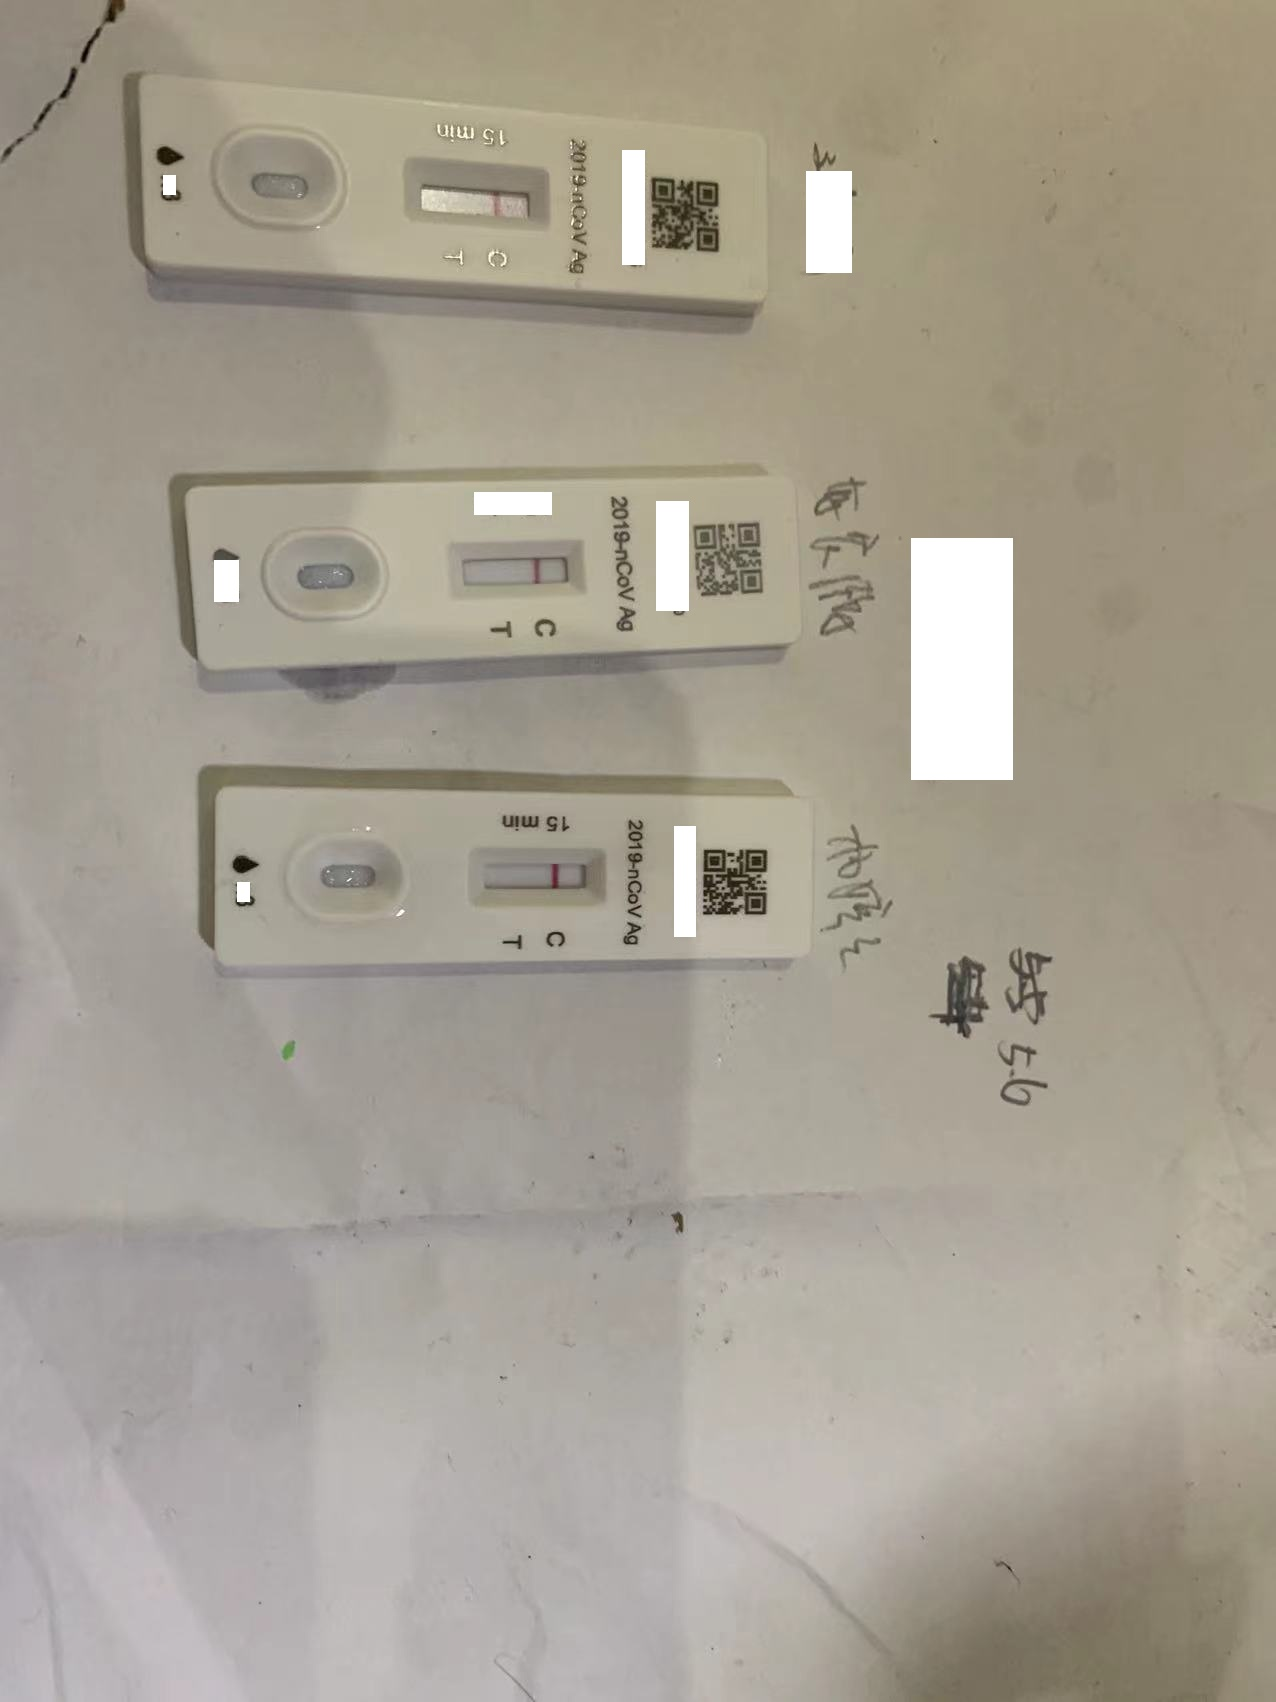negative: (468, 847, 604, 901), (450, 540, 583, 592)
